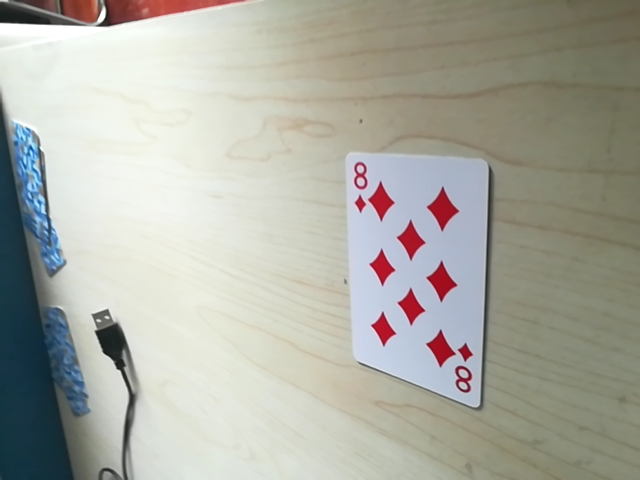fk 8: (344, 156, 379, 211), (446, 346, 480, 402)
